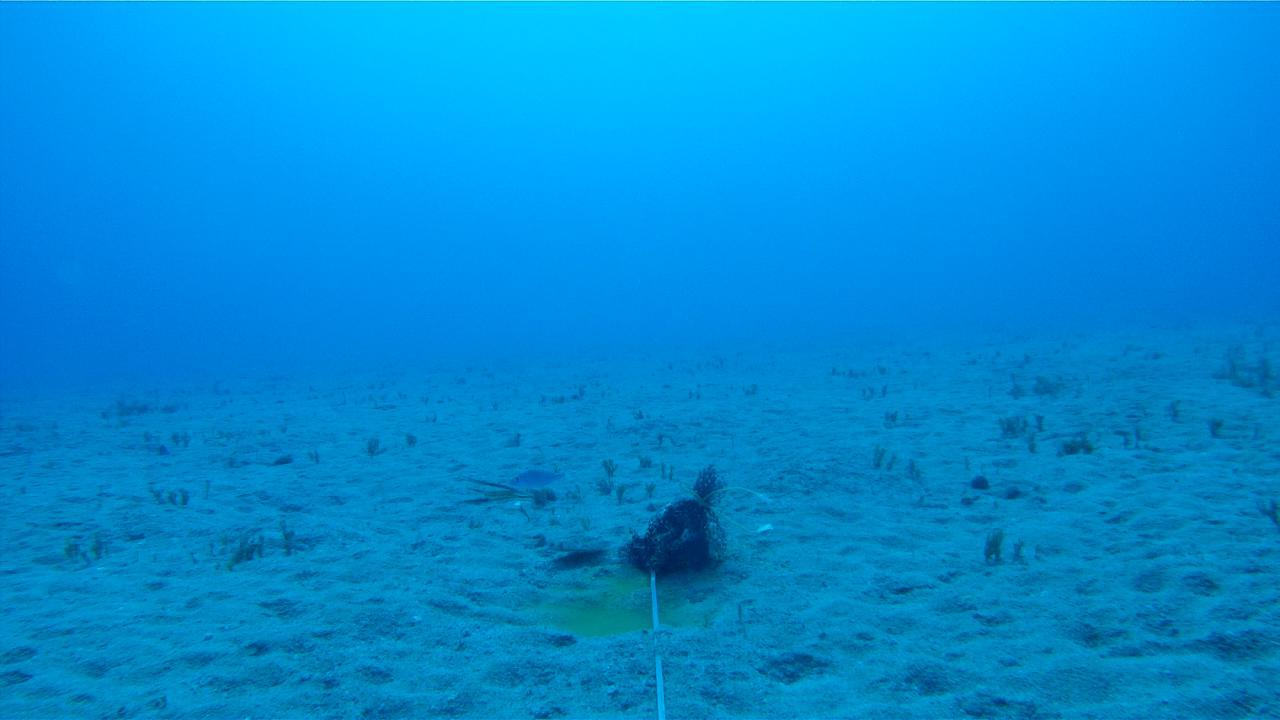bothus: (540, 534, 609, 558)
pagellus: (507, 467, 566, 492)
